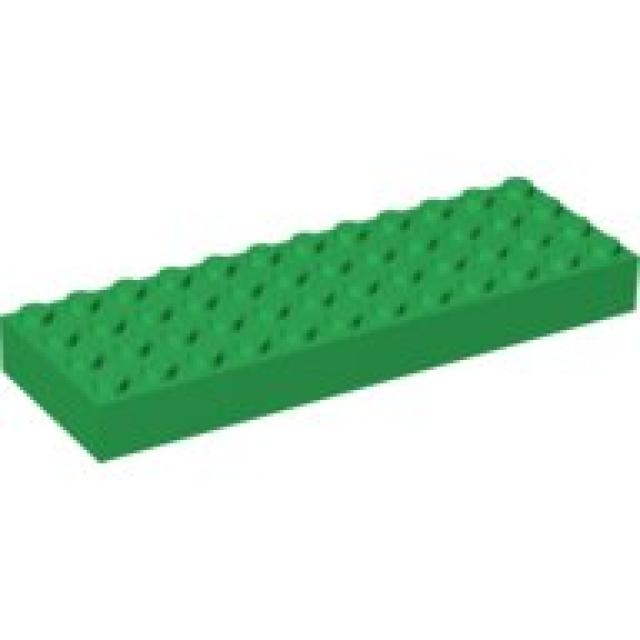Green_Large: (3, 177, 640, 467)
